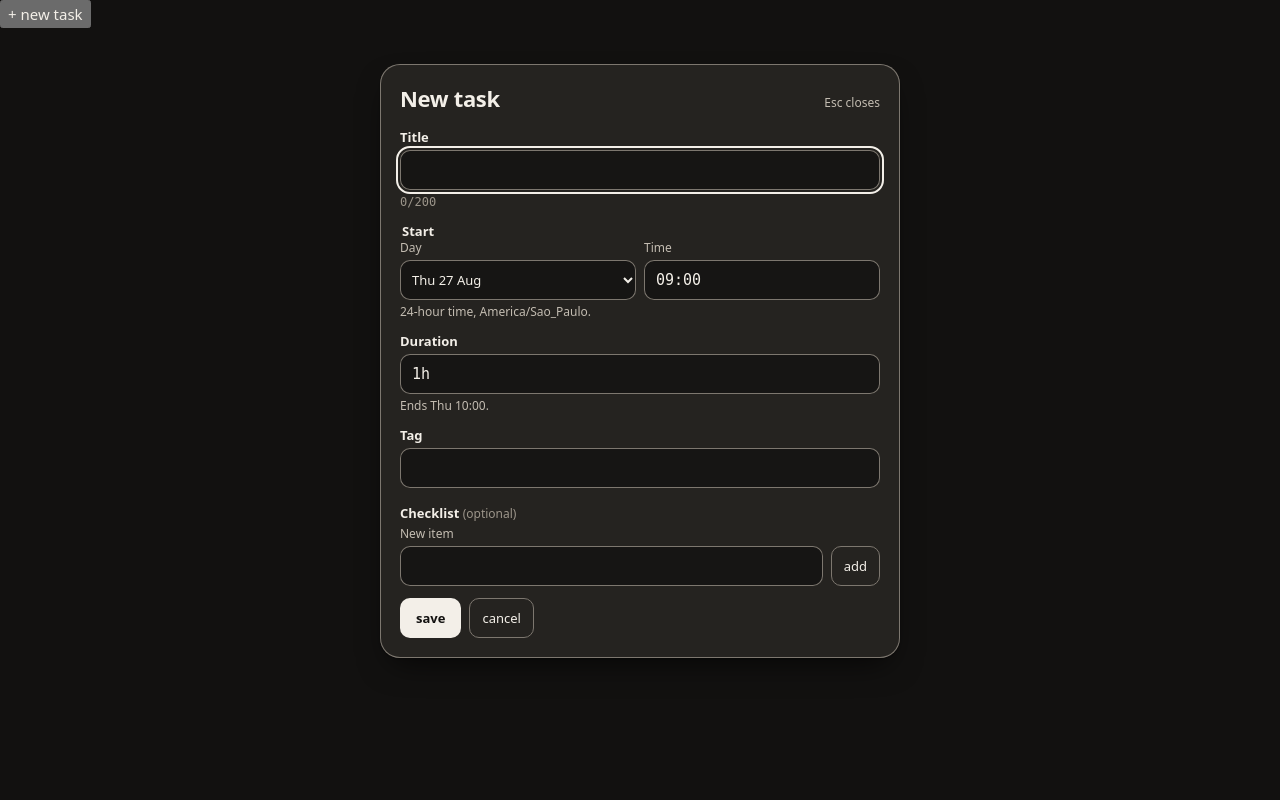
Test case: shows the server's refusal at the time, announced, and keeps what was typed
This screenshot has width=1280, height=800.
In the field labelled "Title": (640, 170) [400, 150, 880, 190], type "Advisor"
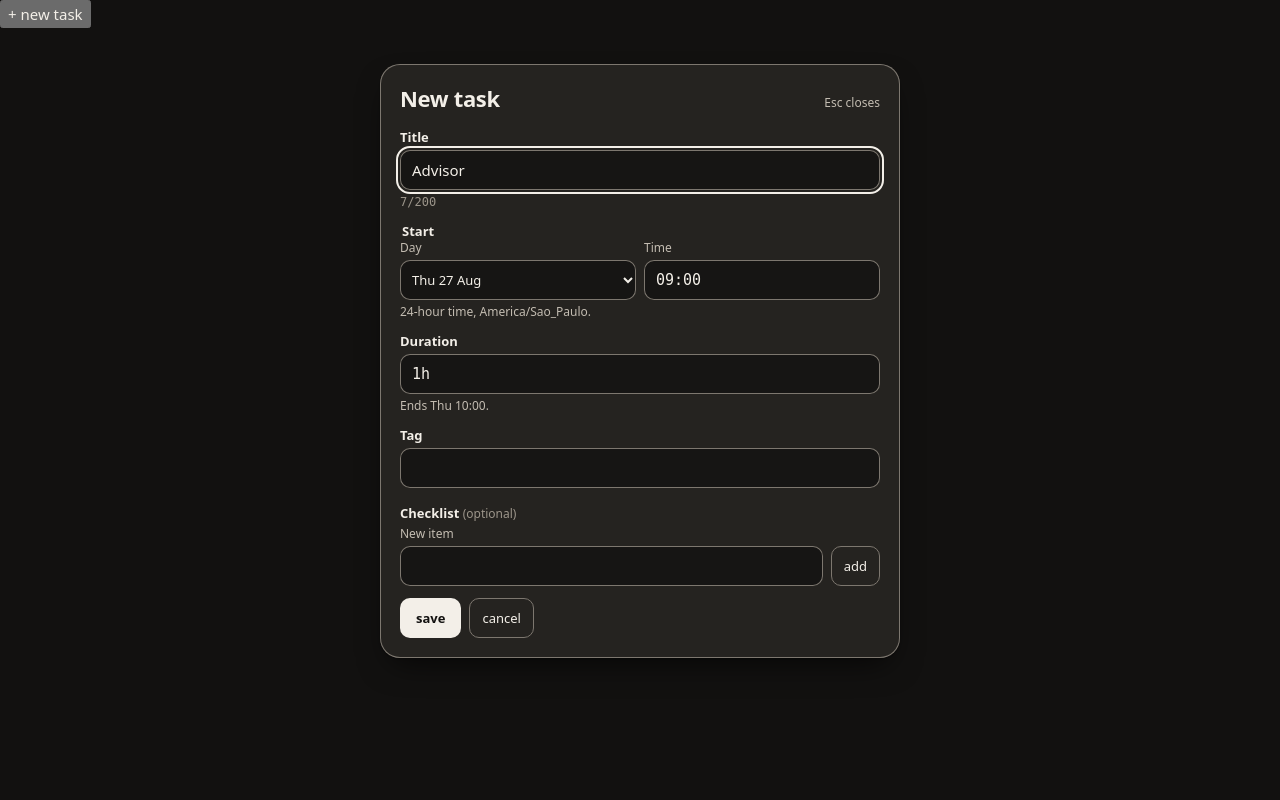
Click the button "save": click(431, 618) [400, 598, 461, 638]
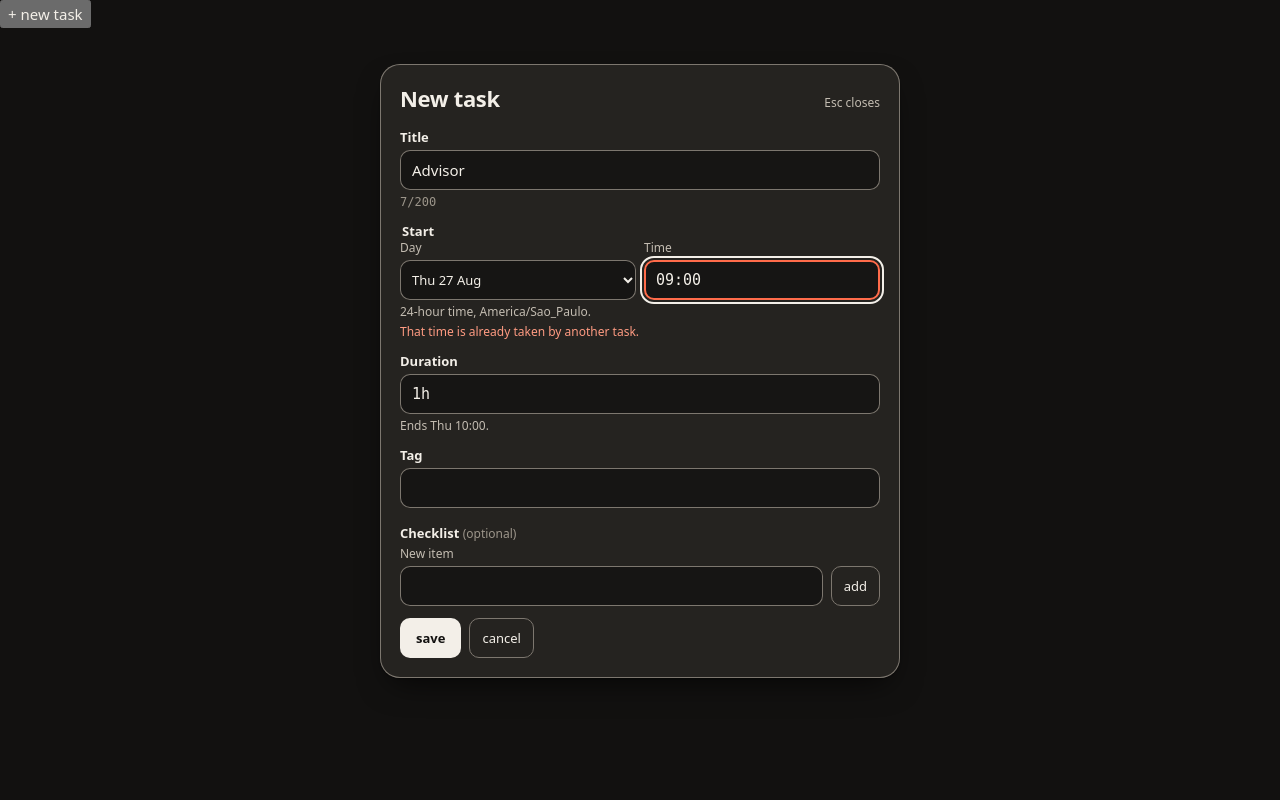
Expected: the button "save" is shown, [400, 618, 461, 658]
Now the message reads "That time is already taken by another task.", box [400, 323, 639, 340]
